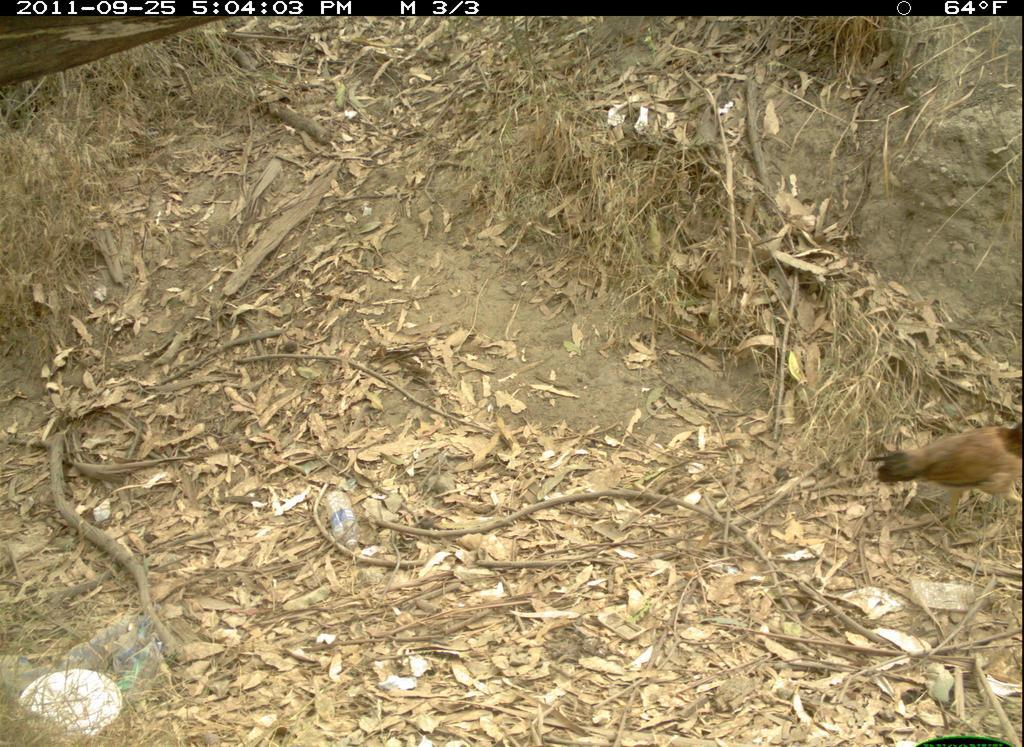bird: (867, 399, 1016, 534)
